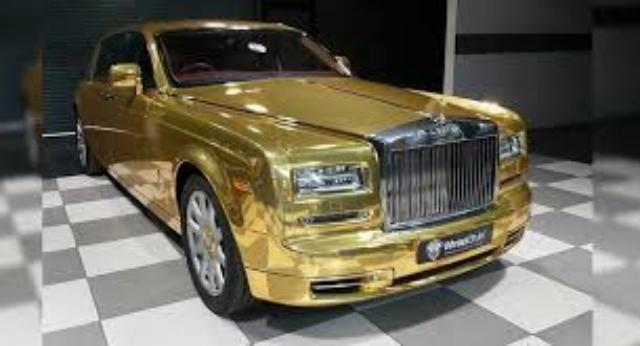rolls-royce: (73, 19, 533, 317)
